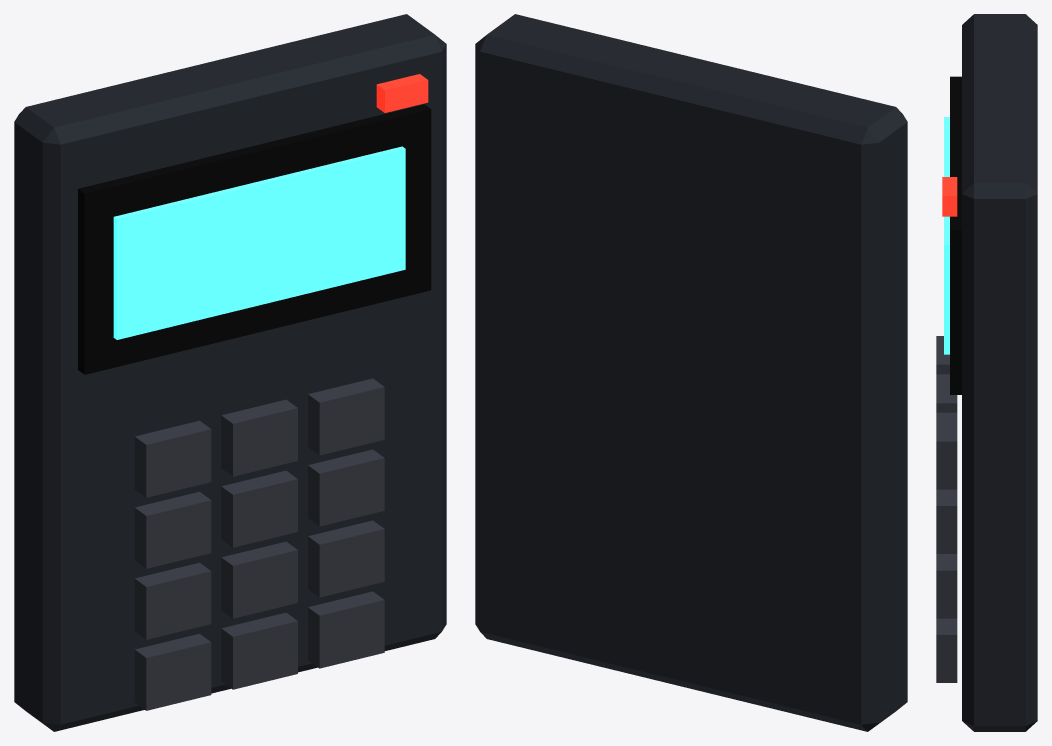
File: keypad_wall.glb
The picture shows the model from 3 angles, left to right: view 1: azimuth 30°, elevation 25°; view 2: azimuth 150°, elevation 25°; view 3: azimuth 270°, elevation 25°; orthographic projection. The views are drawn at different scales.
Visible parts, largest first — view 1: keypad_wall; view 2: keypad_wall; view 3: keypad_wall.
Part boxes in pixels (x1=…): keypad_wall: x1=14, y1=14, x2=446, y2=731; keypad_wall: x1=475, y1=14, x2=907, y2=731; keypad_wall: x1=936, y1=14, x2=1037, y2=731.
Size of the model in its own units: 0.28 by 0.4 by 0.067.
